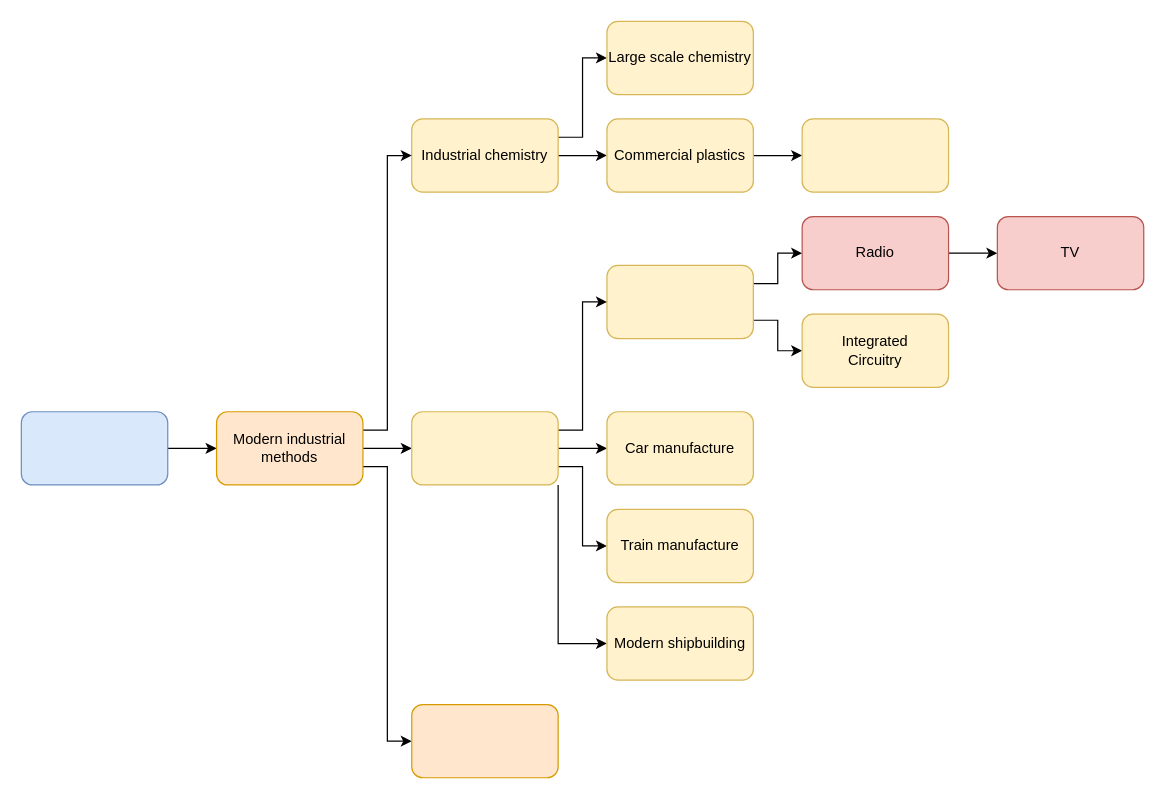
Image size: 1165x799. Some labels were removed from this diagram. Here are the shapes that lost their labels. From the top down, the centre of each, then its label:
At point (875, 155): "Large scale Plastic manufacturing".
At point (679, 301): "Experimental Electronics".
At point (94, 448): "Traditional industry".
At point (484, 448): "Precise engineering".
At point (484, 740): "Prefabs".
